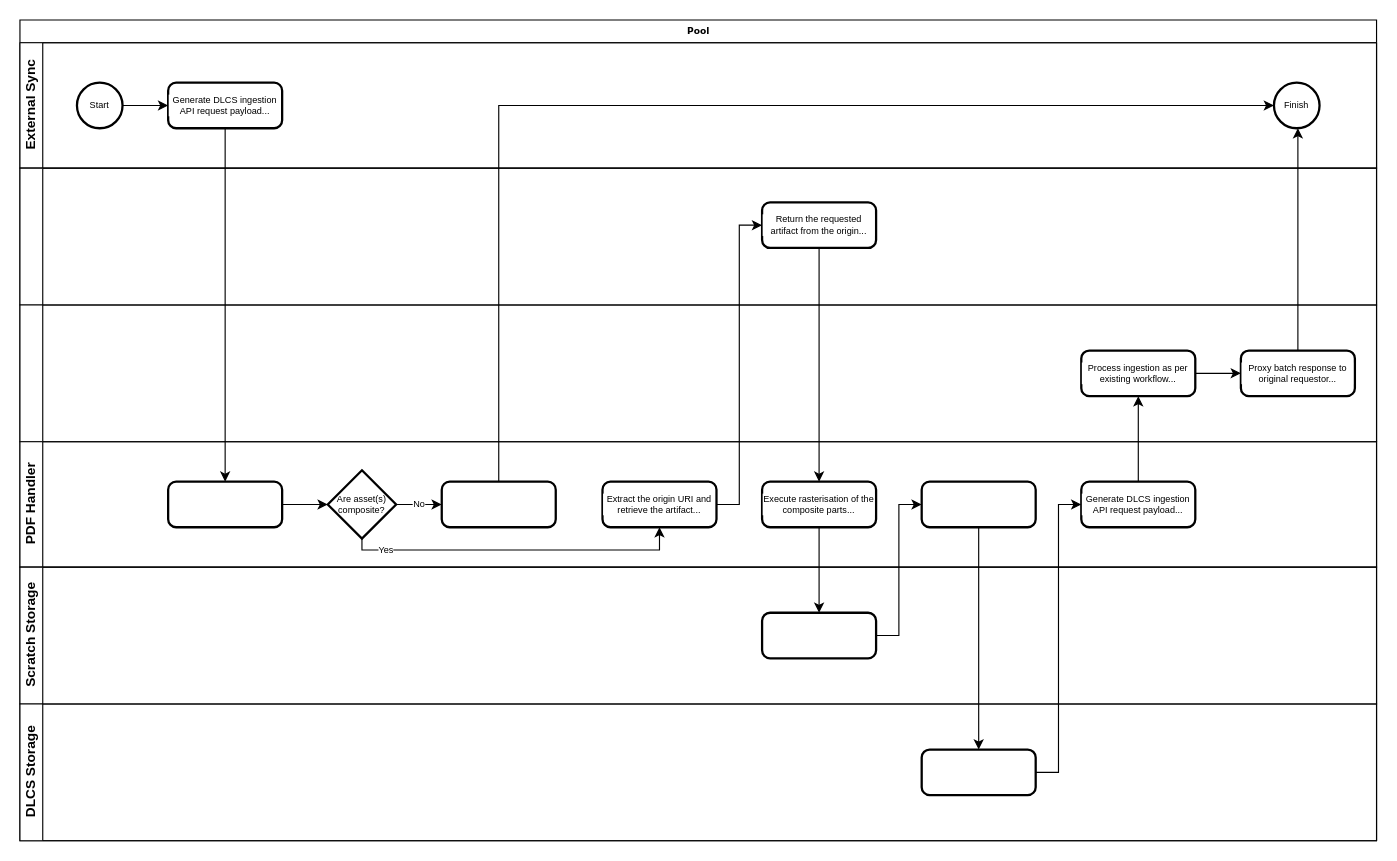
The diagram is 1397 pixels wide and 861 high, and some of its shapes have lost their labels. Each missing label, with the box of its shape:
Determine type of artifact to be ingested...: (166, 480, 283, 528)
DLCS API: (19, 304, 1377, 442)
Generate error response: (440, 480, 556, 528)
Origin Storage: (19, 167, 1377, 305)
Persist composite parts to DLCS managed storage location...: (920, 748, 1036, 796)
Persist composite parts to scratch storage during processing...: (760, 611, 877, 659)
Push the composite part to a DLCS managed storage location...: (920, 480, 1036, 528)
